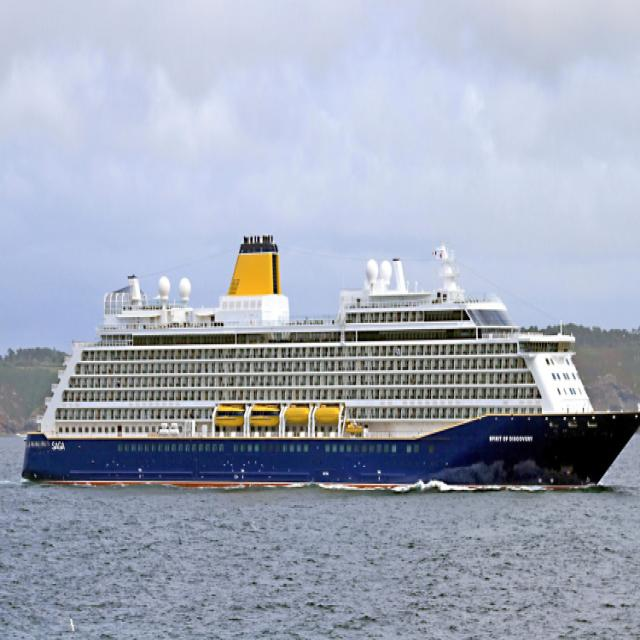cruises: (20, 233, 640, 500)
